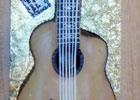guitar: (16, 1, 116, 99)
